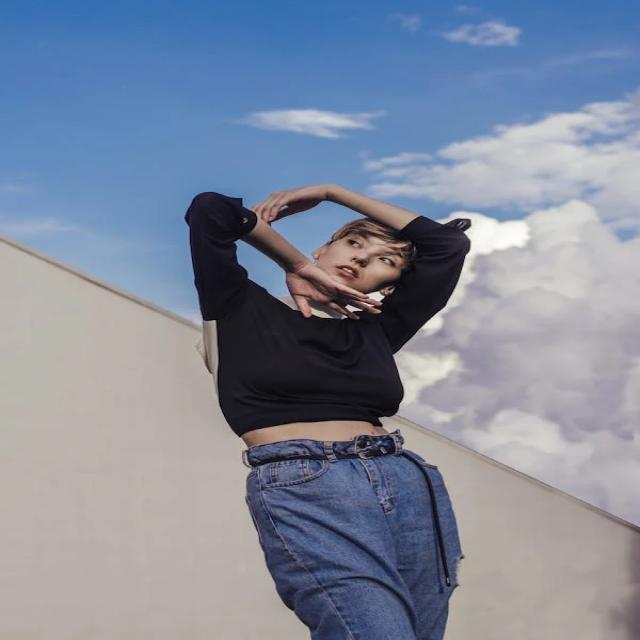Real human 2: (169, 171, 545, 640)
